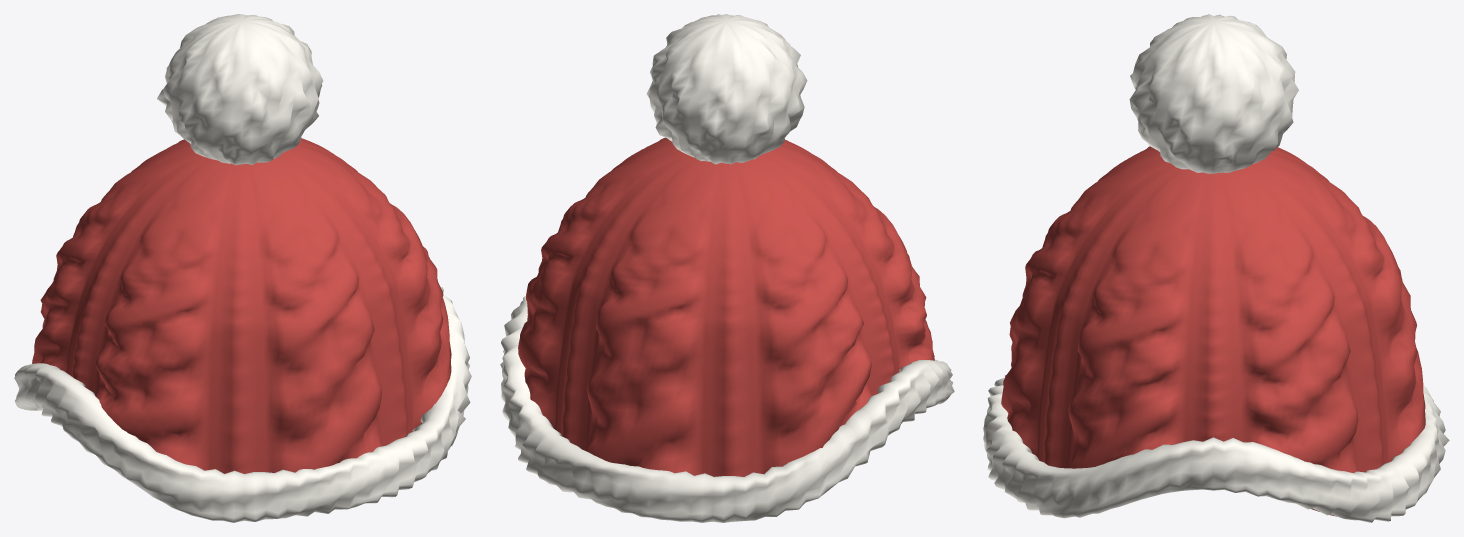
Rendered from beanie.glb.
3 views of the same model, side by side, from view 1: azimuth 30°, elevation 25°; view 2: azimuth 150°, elevation 25°; view 3: azimuth 270°, elevation 25° (orthographic). The views are drawn at different scales.
Visible parts, largest first — view 1: beanie; view 2: beanie; view 3: beanie.
Boxes of the visible parts, bbox=[...] form: beanie: bbox=[14, 14, 471, 522]; beanie: bbox=[500, 14, 954, 522]; beanie: bbox=[983, 14, 1449, 522].
Size of the model in its own units: 0.6581 by 0.6578 by 0.627.
